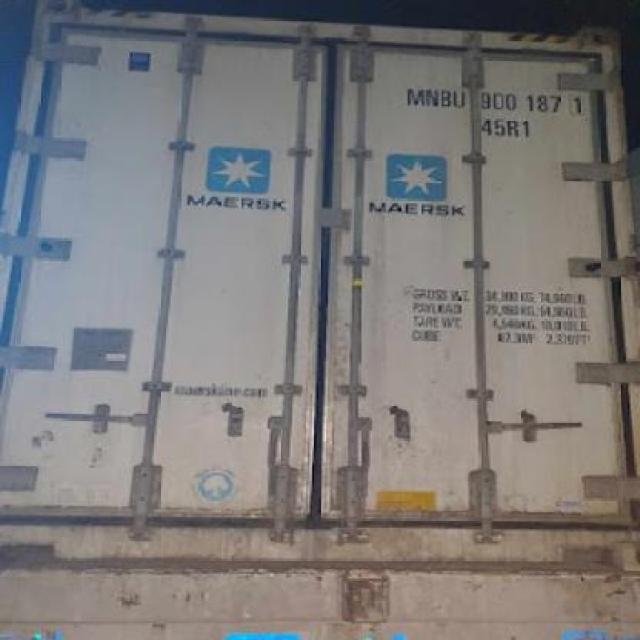ISO: (482, 115, 534, 138)
container_number: (407, 90, 582, 114)
